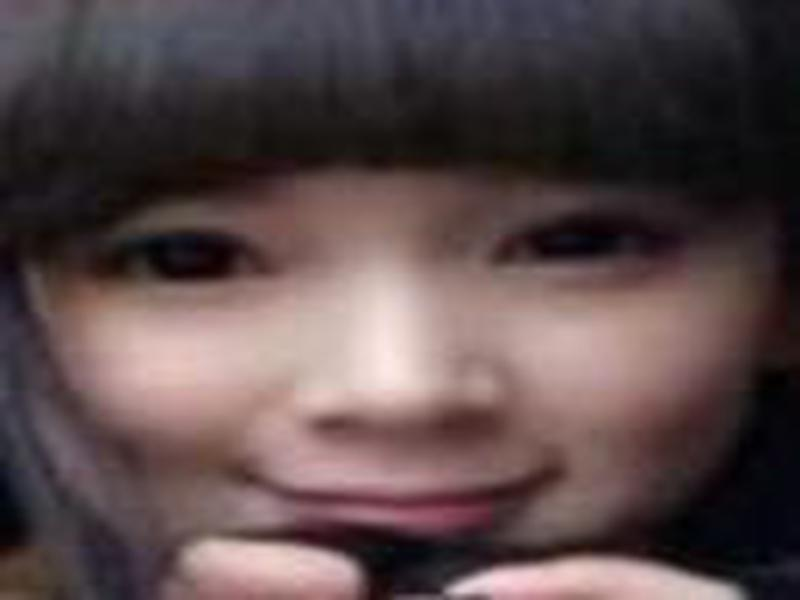without_mask: (34, 140, 753, 565)
